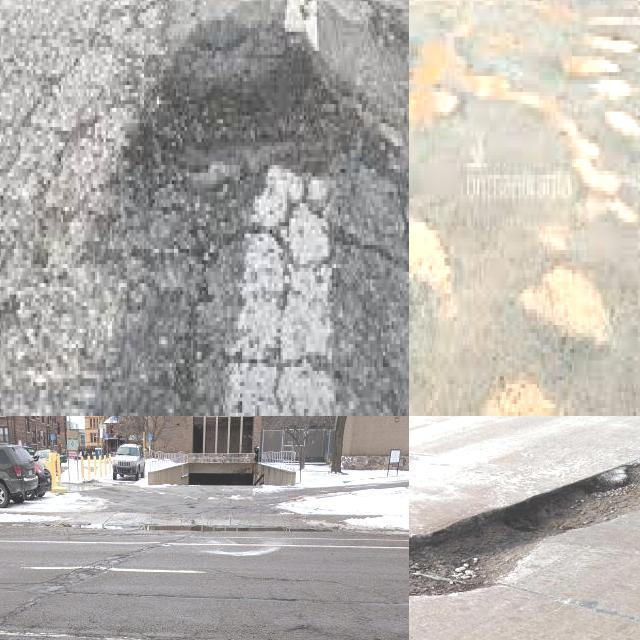Pothole: (142, 20, 404, 177), (409, 41, 619, 199), (409, 460, 640, 595), (521, 270, 609, 345), (409, 222, 457, 317), (481, 380, 568, 416), (566, 52, 619, 80)
